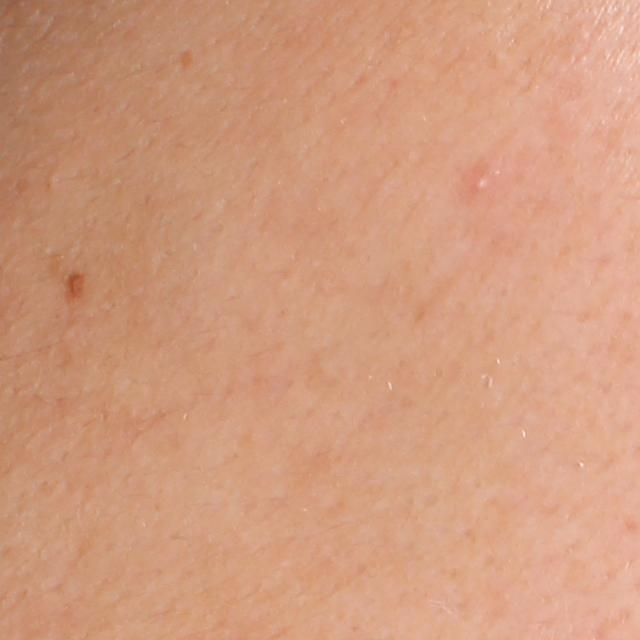comedo: (469, 167, 498, 194)
nevus: (65, 271, 86, 302)
